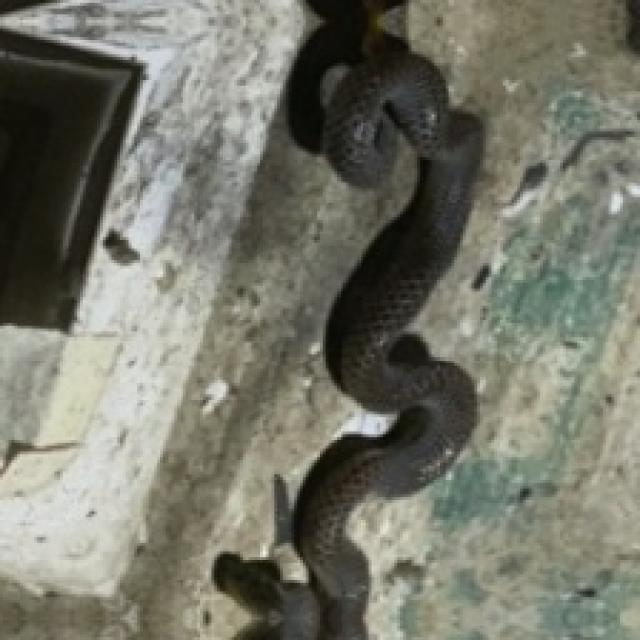gervais worm snake: (211, 0, 483, 637)
